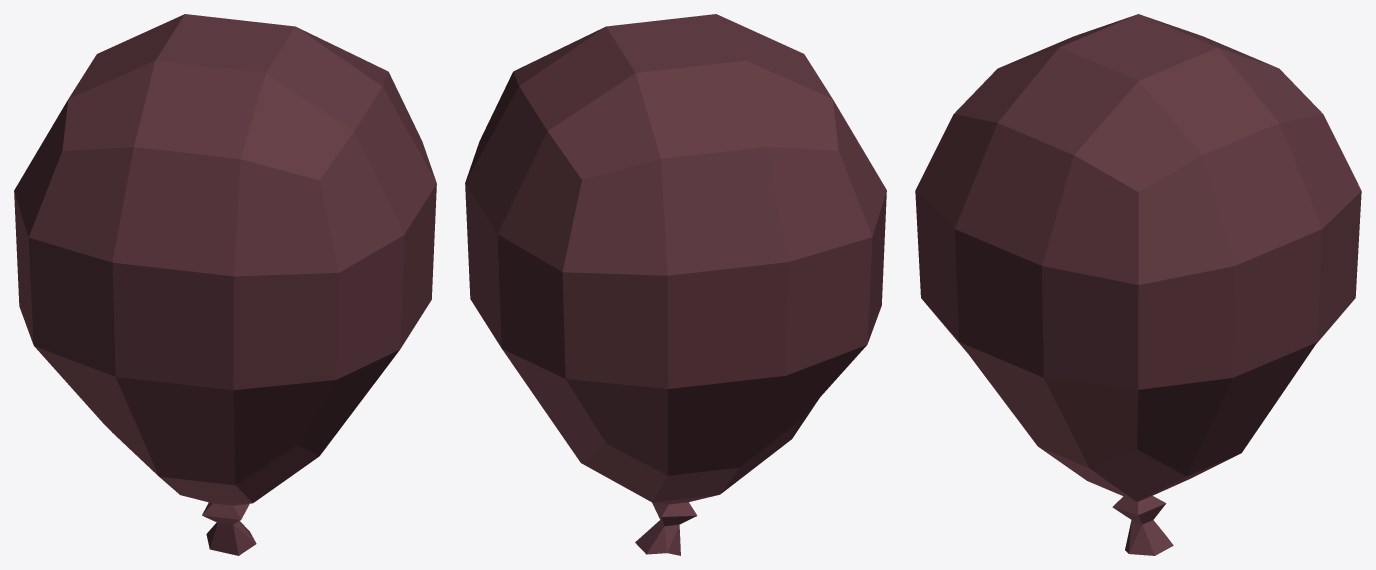
File: props-balloon-single.glb
3 renders of one model, left to right at view 1: azimuth 30°, elevation 25°; view 2: azimuth 150°, elevation 25°; view 3: azimuth 270°, elevation 25°, orthographic.
Visible parts, largest first — view 1: balloon-single; view 2: balloon-single; view 3: balloon-single.
Boxes of the visible parts, x1,y1,x2,y2 form: balloon-single: [14, 14, 436, 555]; balloon-single: [465, 14, 886, 555]; balloon-single: [915, 14, 1361, 555].
Bounding box in the file's own units: 0.4048 × 0.4997 × 0.4048.
